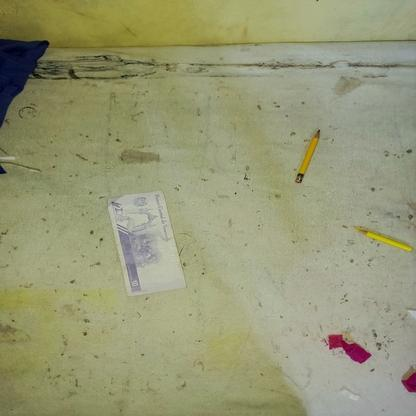ten-back-vef: (105, 192, 188, 294)
